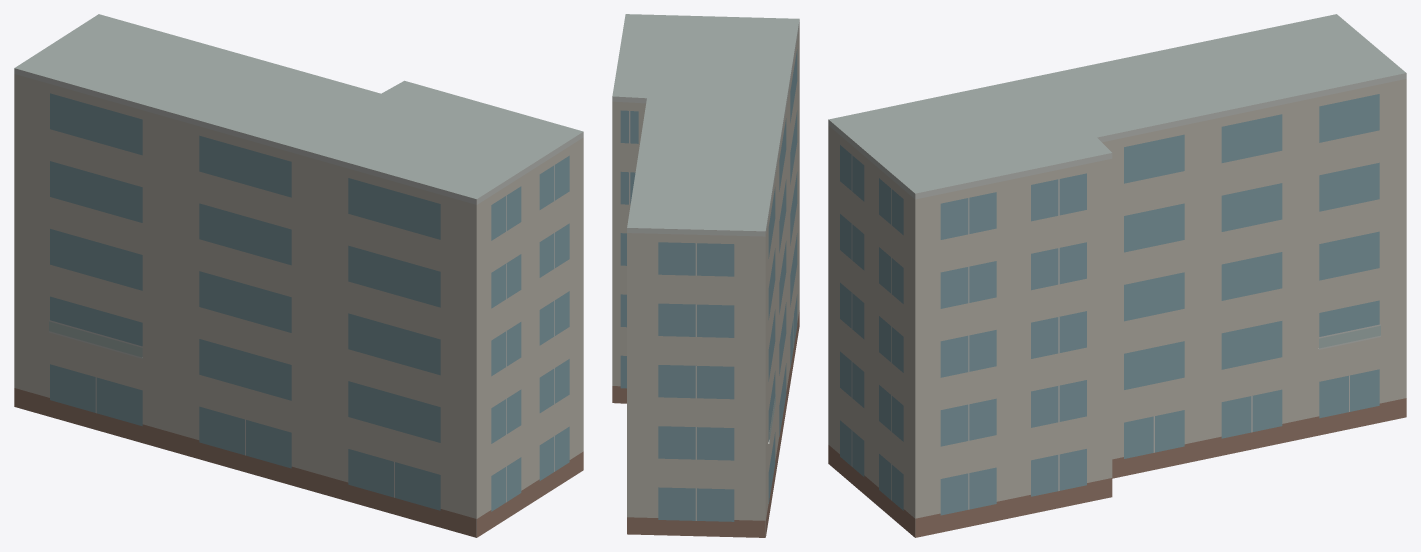
File: survey-upis-32903939.glb
3 renders of one model, left to right at view 1: azimuth 30°, elevation 25°; view 2: azimuth 150°, elevation 25°; view 3: azimuth 270°, elevation 25°, orthographic. The views are drawn at different scales.
Visible parts, largest first — view 1: survey-upis-32903939.tmp; view 2: survey-upis-32903939.tmp; view 3: survey-upis-32903939.tmp.
Part boxes in pixels (x1=…): survey-upis-32903939.tmp: x1=14, y1=14, x2=583, y2=537; survey-upis-32903939.tmp: x1=612, y1=14, x2=799, y2=537; survey-upis-32903939.tmp: x1=828, y1=14, x2=1406, y2=537.
Bounding box in the file's own units: 16.12 × 14.4 × 21.93.
